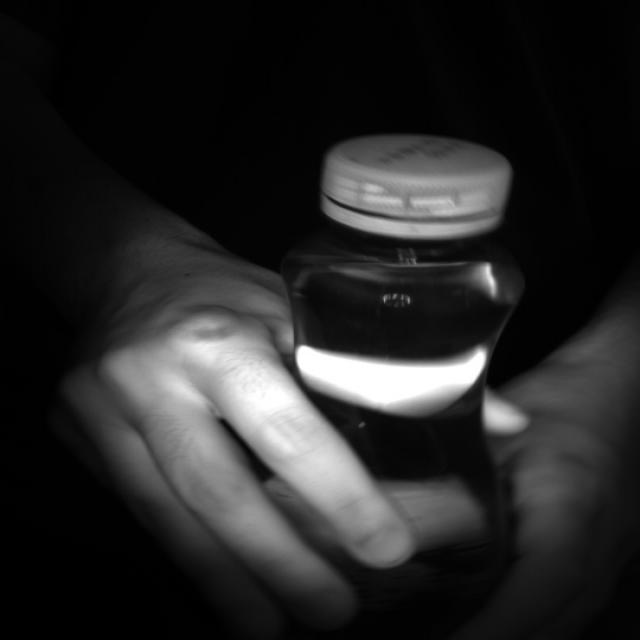Not Good: (317, 132, 510, 239)
